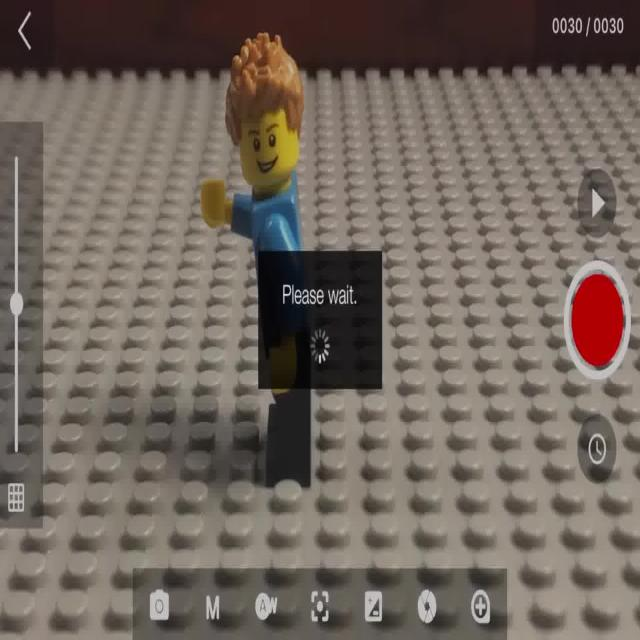4: (262, 212, 304, 406), (194, 174, 245, 231)
hand: (208, 45, 311, 484)
